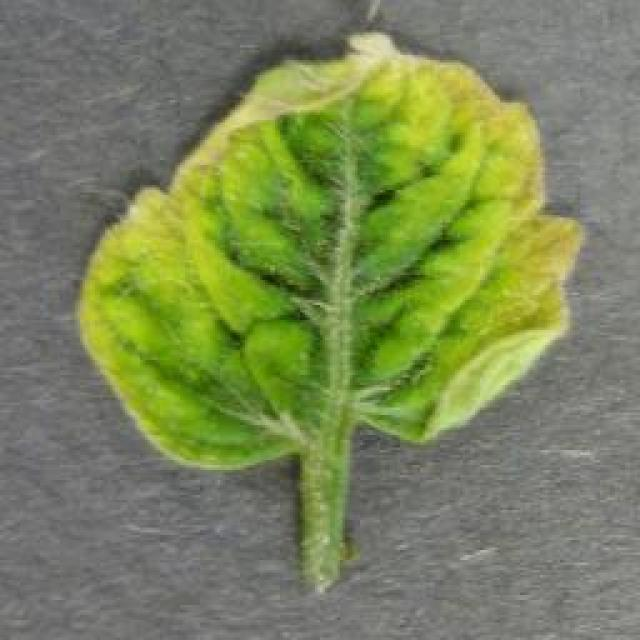Tom_Yellow_Leaf_Curl_Virus: (82, 61, 562, 424)
